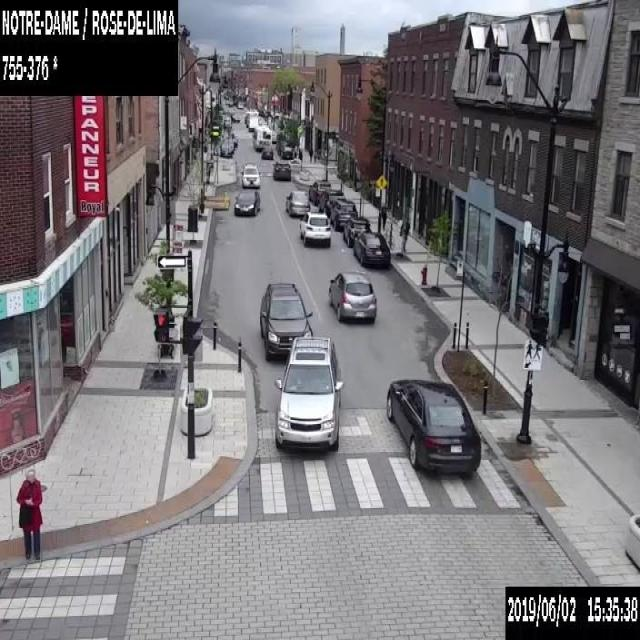bus: (251, 126, 271, 150)
pedestrian: (12, 466, 44, 562), (398, 217, 410, 252), (379, 204, 386, 231), (308, 146, 313, 162)
vehicle: (385, 378, 480, 474), (275, 335, 344, 449), (259, 282, 312, 360), (328, 270, 376, 320), (352, 230, 390, 267), (299, 210, 330, 246), (329, 197, 357, 230), (342, 216, 371, 246), (233, 188, 260, 216), (317, 188, 345, 214), (284, 190, 310, 215), (308, 179, 331, 205), (240, 161, 260, 188), (272, 159, 290, 180), (245, 111, 257, 130), (219, 142, 232, 156), (223, 135, 233, 152), (280, 145, 292, 158), (260, 148, 272, 158), (230, 132, 237, 146), (222, 116, 230, 127), (230, 112, 240, 120), (271, 130, 276, 142), (237, 101, 242, 107), (227, 101, 232, 106)
